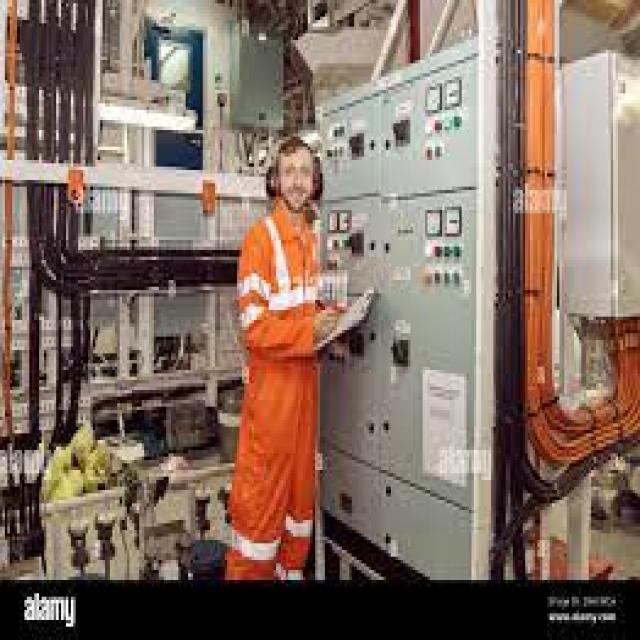vest: (236, 207, 322, 584)
